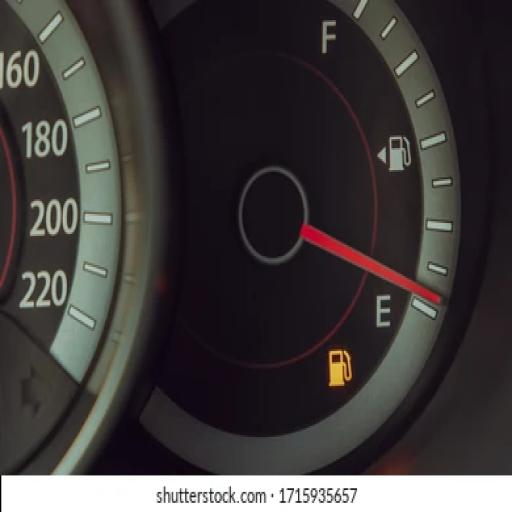empty: (371, 289, 396, 338)
fuel_icon: (323, 346, 358, 395), (388, 130, 414, 176)
full: (316, 11, 340, 57)
guage_area: (143, 4, 495, 474)
needle_center: (231, 152, 324, 279)
needle_tip: (420, 273, 452, 314)
